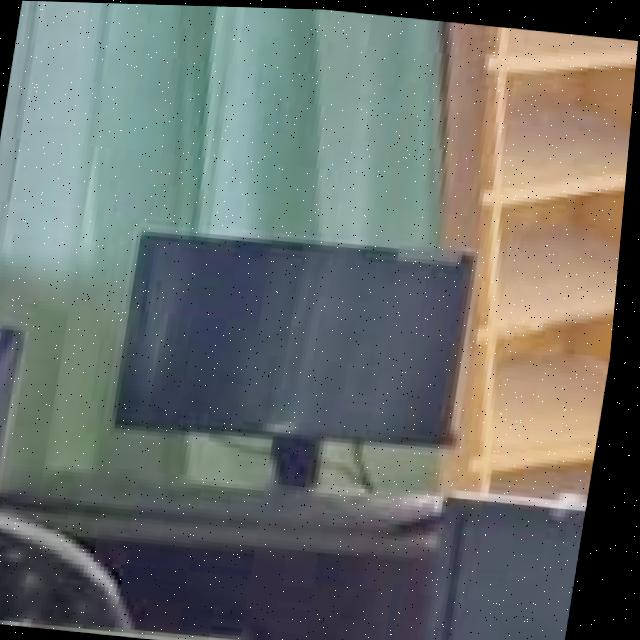offscreen: (123, 233, 475, 439)
